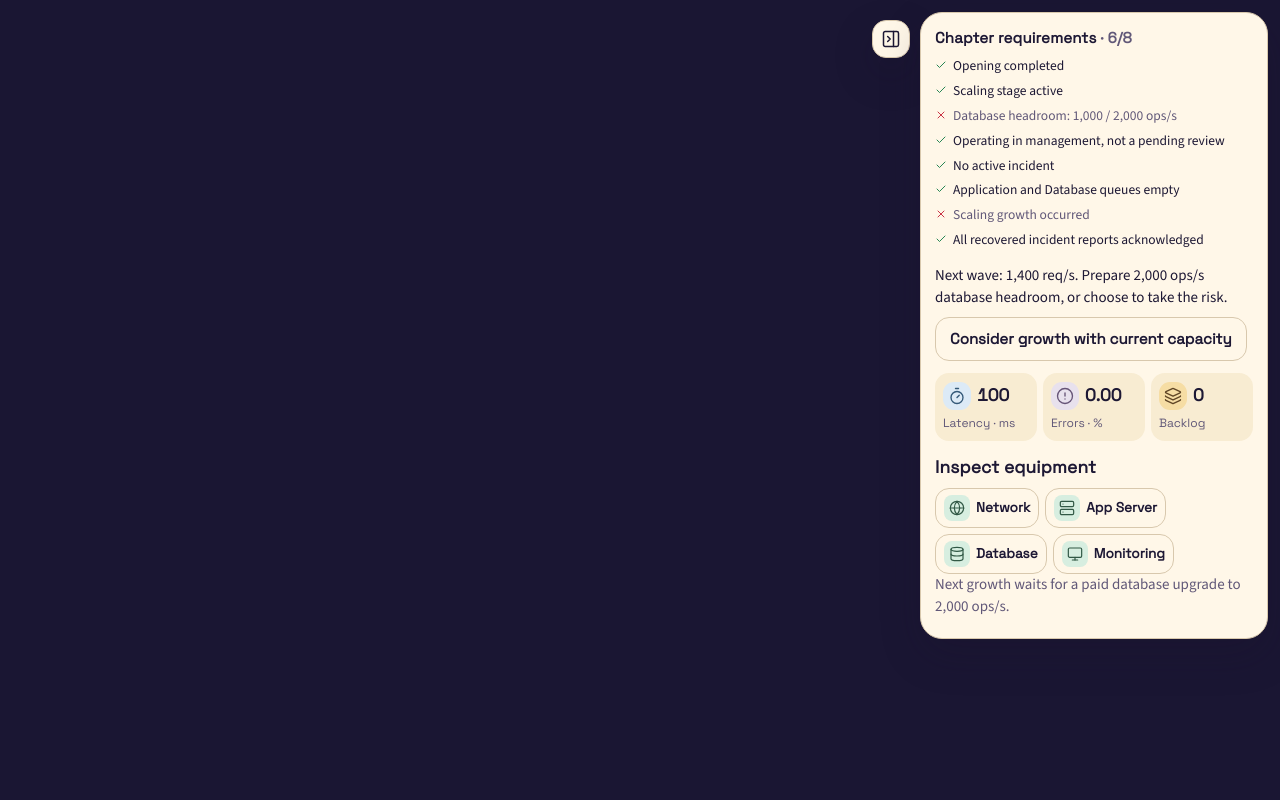
shows the Scaling headroom blocker without disabling experimentation
Expected: the element named "Guided Mode requirements" shows "Database headroom: 1,000 / 2,000 ops/s", top-left (953, 106), bottom-right (1177, 124)
Click the button "App Server".
click(1106, 508)  # box top-left (1045, 488), bottom-right (1166, 528)
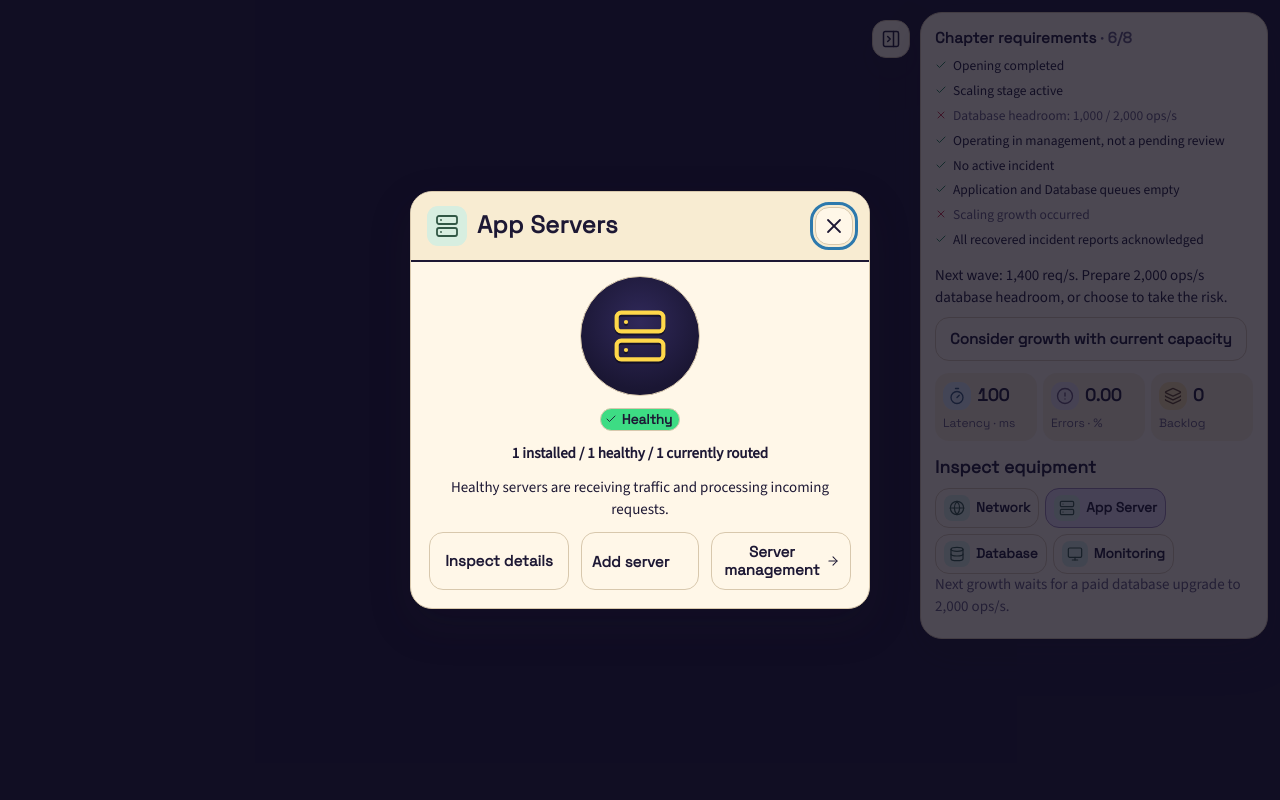
Expected: the button "Add server" is enabled, top-left (581, 532), bottom-right (699, 590)
